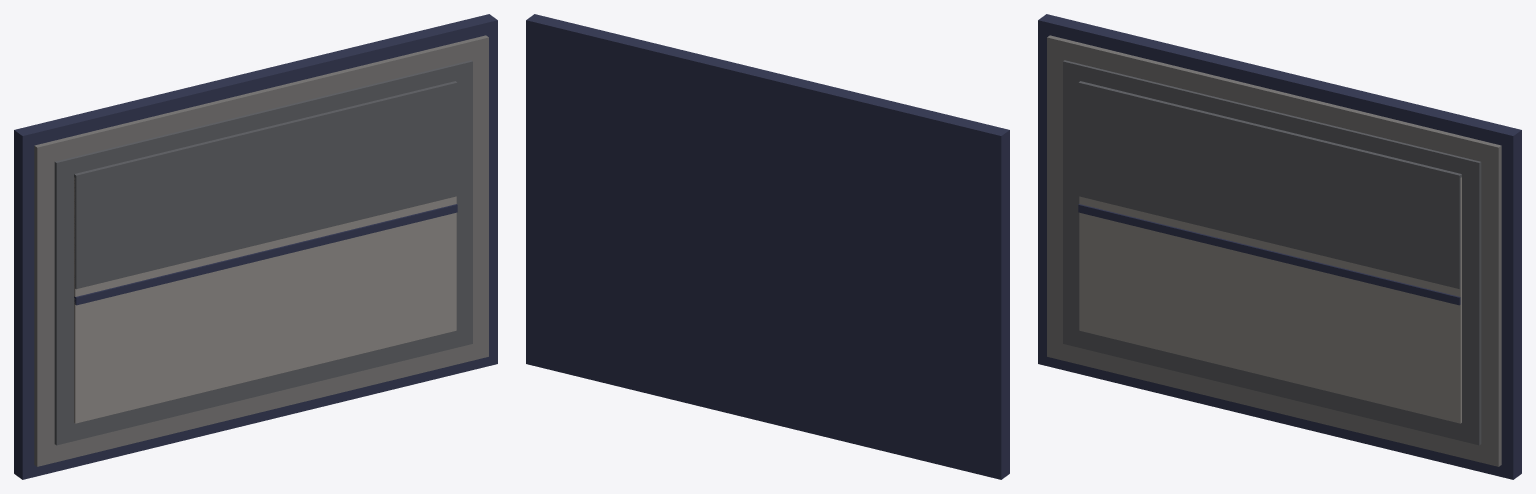
Rendered from painel_seco_v2.glb.
3 views of the same model, side by side, from view 1: azimuth 30°, elevation 25°; view 2: azimuth 150°, elevation 25°; view 3: azimuth 330°, elevation 25° (orthographic).
Visible parts, largest first — view 1: Moldura_0; view 2: Moldura_0; view 3: Moldura_0.
Boxes of the visible parts, x1=… form: Moldura_0: x1=14, y1=14, x2=497, y2=479; Moldura_0: x1=526, y1=14, x2=1009, y2=479; Moldura_0: x1=1038, y1=14, x2=1521, y2=479.
Size of the model in its own units: 1.62 by 1.12 by 0.0905.
